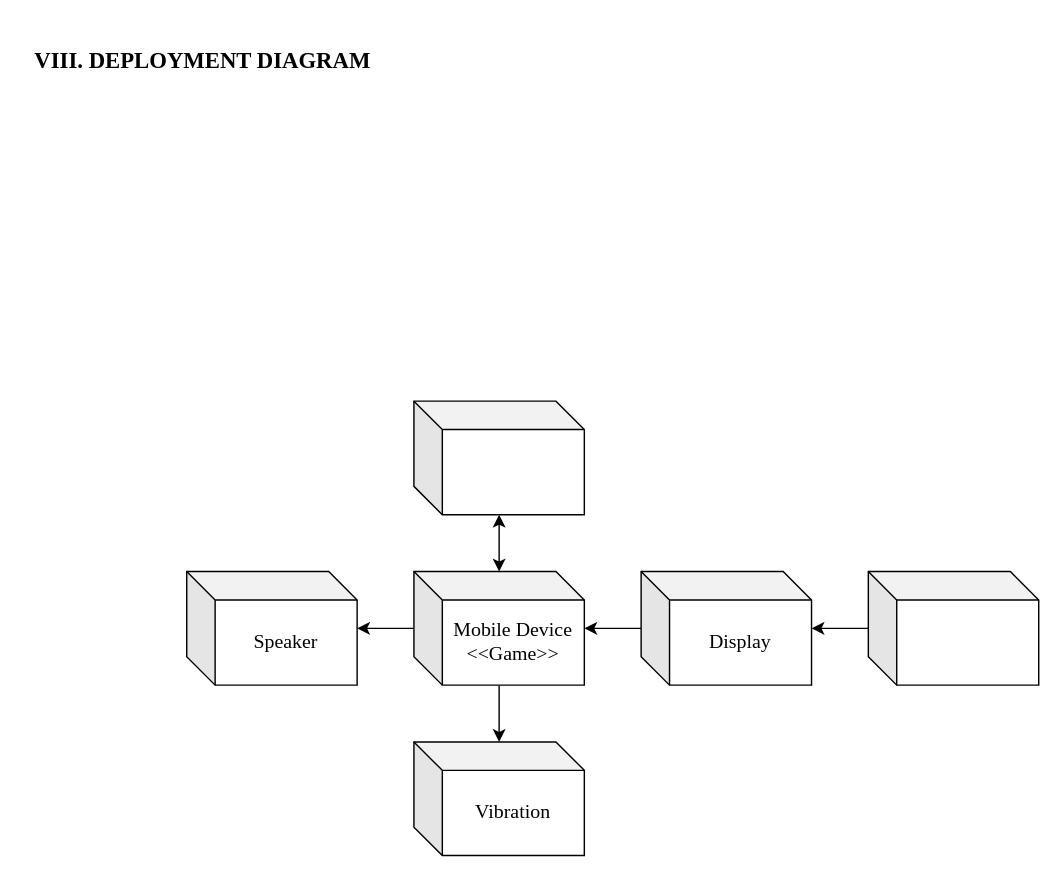
Some shapes in this 1064 by 880 pixel diagram are drawn without their labels. The shapes that lost their labels are listed below. From the top down, each one's centre as x and y in pixels, then its label:
At [498,457]: "DB".
At [953,627]: "Touch Inupt".
